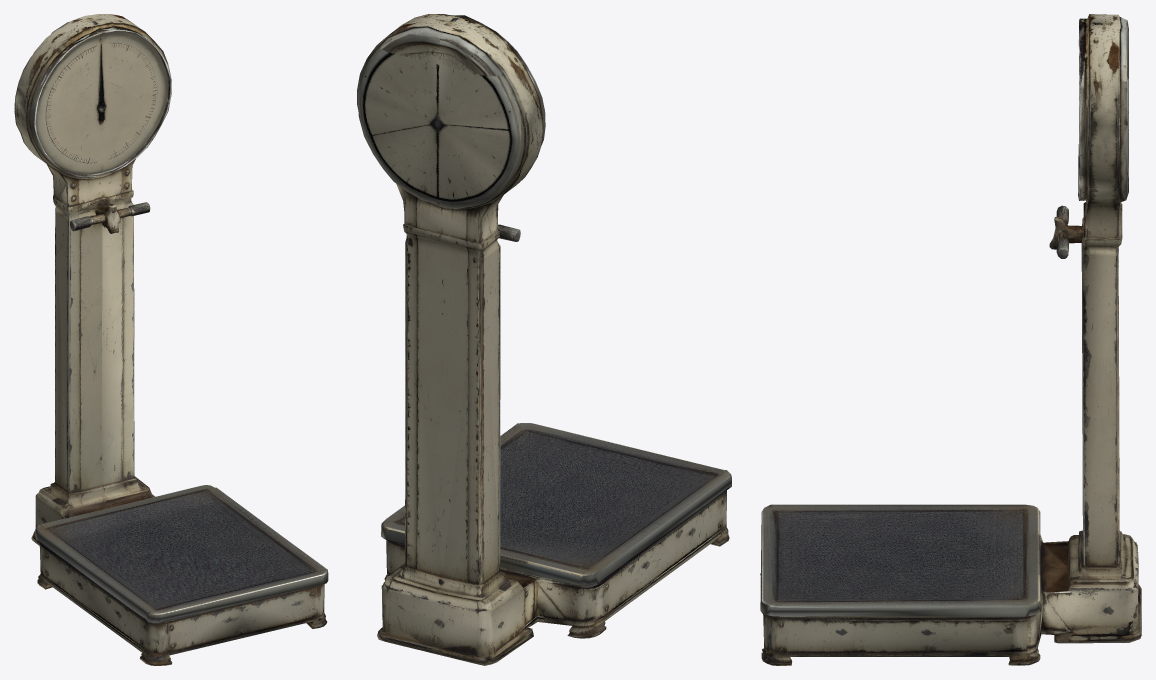
The model's file is weight_scale.fbx.
3 renders of one model, left to right at view 1: azimuth 30°, elevation 25°; view 2: azimuth 150°, elevation 25°; view 3: azimuth 270°, elevation 25°, orthographic. The views are drawn at different scales.
Parts seen in each view (by area): view 1: mesh_node; view 2: mesh_node; view 3: mesh_node.
Part boxes in pixels (<box>): mesh_node: <box>14,14,328,665</box>; mesh_node: <box>357,14,731,665</box>; mesh_node: <box>760,14,1141,665</box>.
Bounding box in the file's own units: 36.62 × 100 × 58.4.
1 material, 1 textured.
